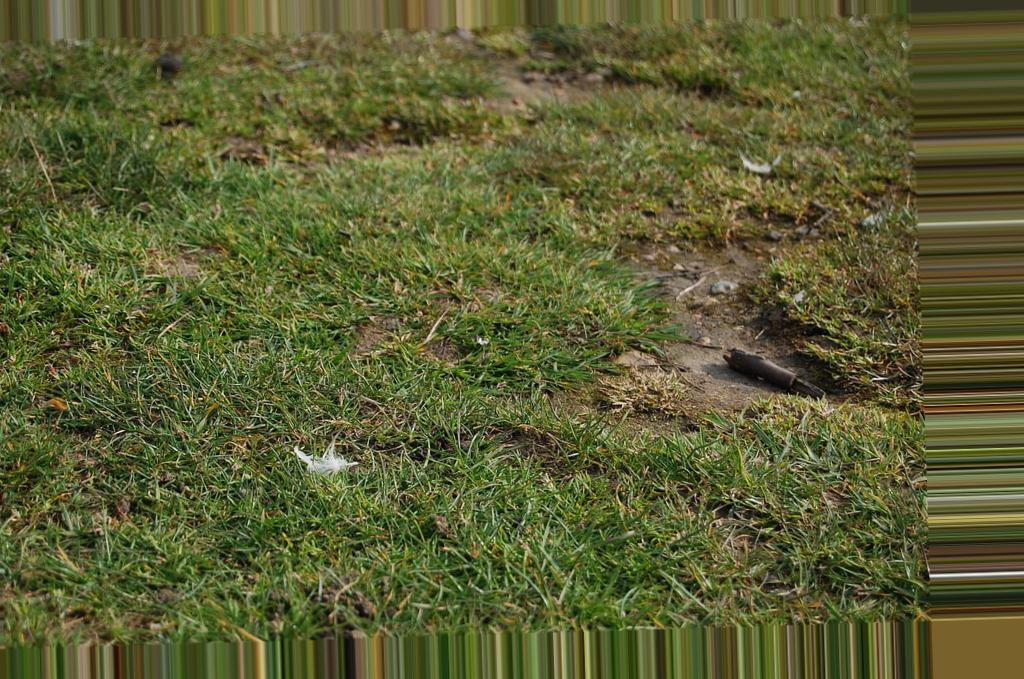patch: (667, 270, 772, 391), (474, 53, 544, 100)
